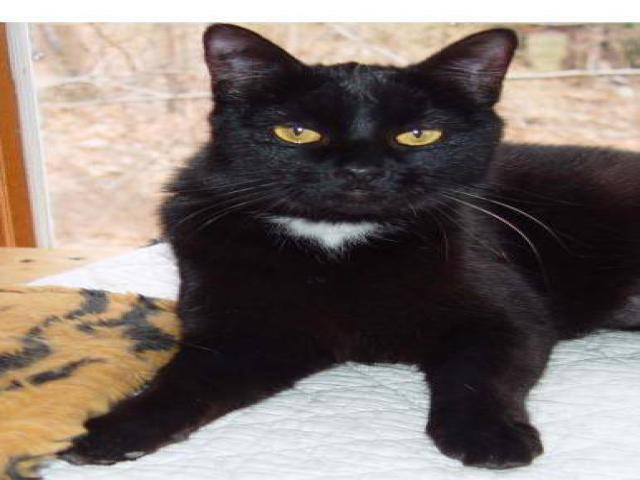cat: (27, 13, 632, 476)
